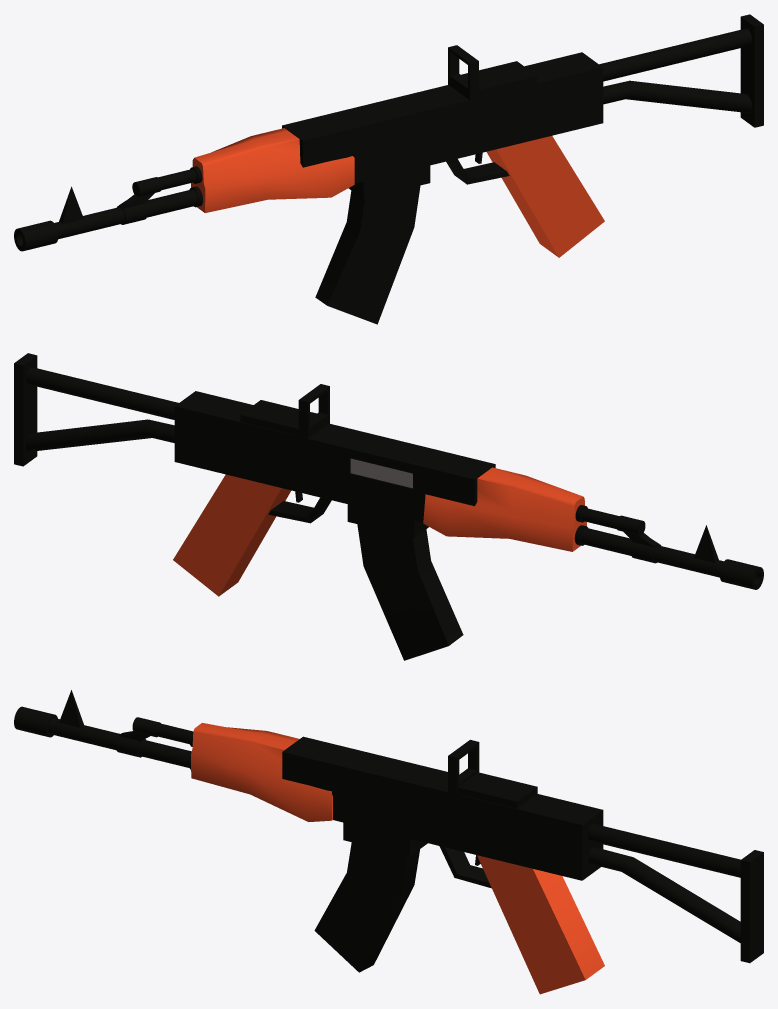
3 renders of one model, top to bottom at view 1: azimuth 30°, elevation 25°; view 2: azimuth 150°, elevation 25°; view 3: azimuth 330°, elevation 25°, orthographic.
Visible parts, largest first — view 1: Cuerpo, Cargador, Cubo_2, Cubo_1, Cañon, Mira; view 2: Cuerpo, Cubo_2, Cargador, Cubo_1, Cañon, Mira, Cubo_5; view 3: Cuerpo, Cubo_1, Cargador, Cubo_2, Cañon, Mira.
Boxes of the visible parts, bbox=[...] form: Cuerpo: bbox=[282, 14, 763, 199]; Cargador: bbox=[315, 185, 420, 324]; Cubo_2: bbox=[191, 128, 354, 212]; Cubo_1: bbox=[486, 136, 604, 257]; Cañon: bbox=[14, 166, 202, 251]; Mira: bbox=[448, 45, 537, 100]; Cuerpo: bbox=[14, 353, 495, 537]; Cubo_2: bbox=[423, 467, 586, 551]; Cargador: bbox=[357, 524, 463, 660]; Cubo_1: bbox=[173, 474, 291, 596]; Cañon: bbox=[574, 505, 763, 589]; Mira: bbox=[240, 384, 329, 439]; Cubo_5: bbox=[350, 458, 412, 488]; Cuerpo: bbox=[282, 736, 763, 963]; Cubo_1: bbox=[477, 855, 604, 994]; Cargador: bbox=[314, 842, 419, 972]; Cubo_2: bbox=[191, 723, 332, 821]; Cañon: bbox=[14, 690, 193, 769]; Mira: bbox=[448, 739, 537, 808].
Size of the model in its own units: 274 by 86.04 by 14.72.
